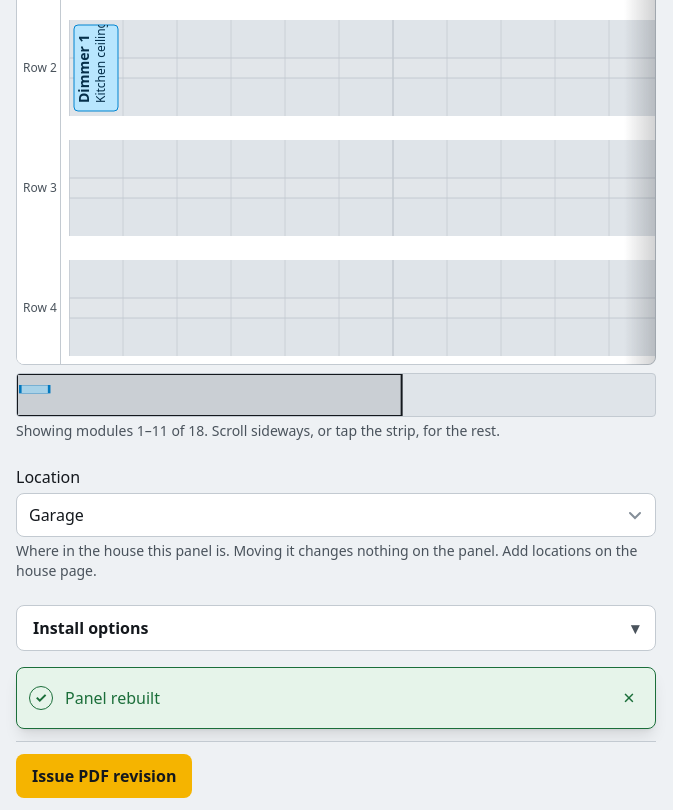
Test: PanelPage › the location picker › moves the panel at once, sending every detail back and no rebuild
The width and height of the screenshot is (673, 810).
(page scrolled)
Select "Plant room" in the dropdown labelled "Location" at [336, 515], box 16,493 -> 656,537
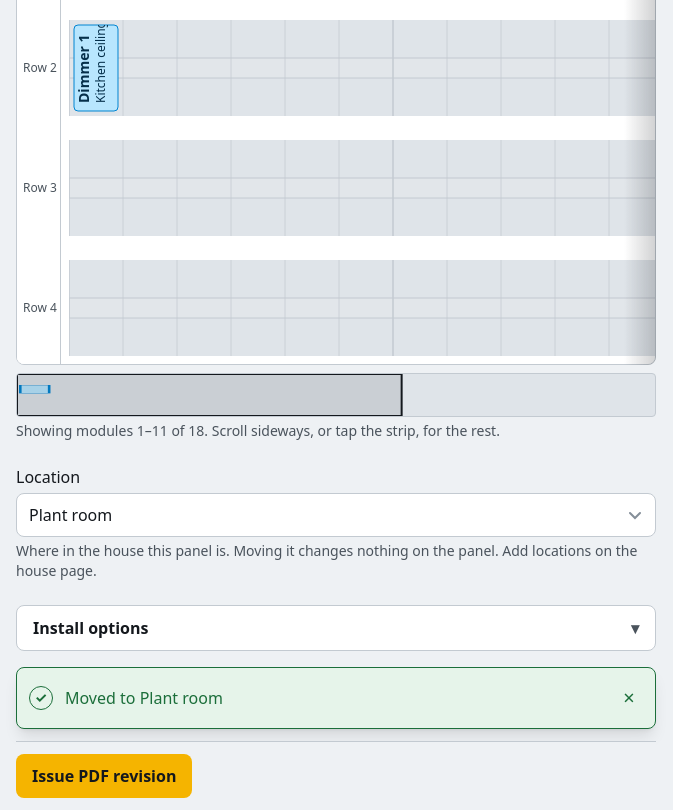
Result: the message shows "Moved to Plant room" at 65,687 -> 223,709
